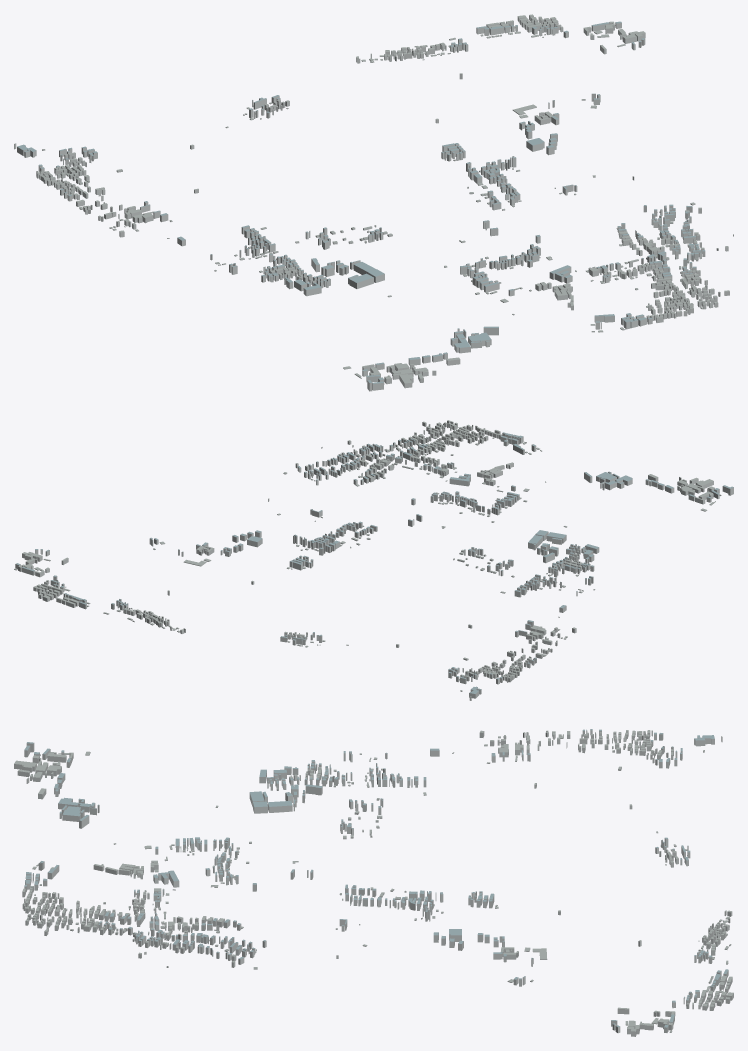
File: far.glb
3 views of the same model, one above another, from view 1: azimuth 30°, elevation 25°; view 2: azimuth 150°, elevation 25°; view 3: azimuth 270°, elevation 25° (orthographic). The views are drawn at different scales.
Bounding box in the file's own units: 2119 × 32 × 2134.
